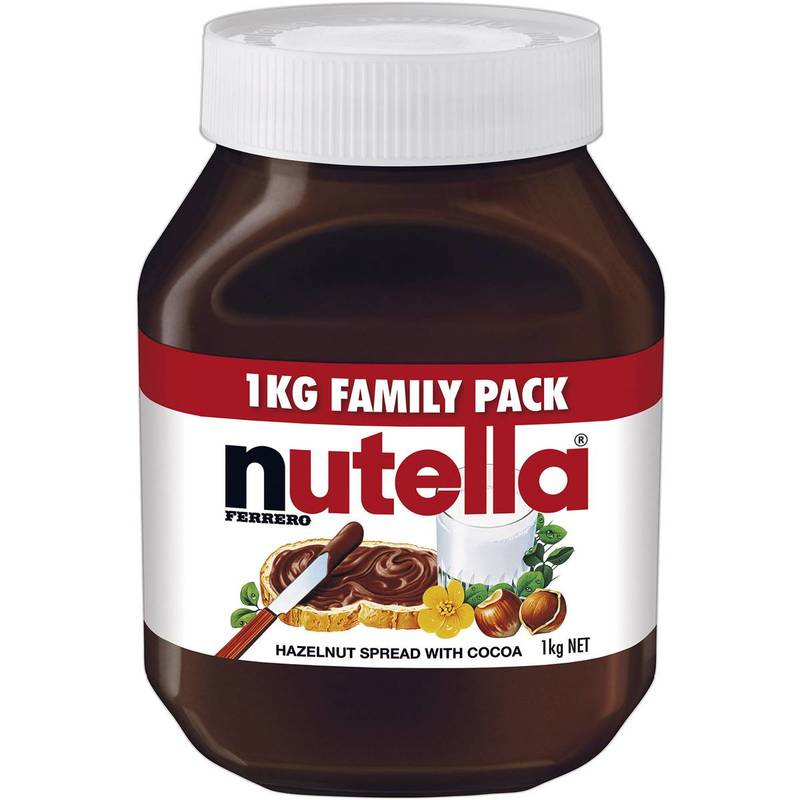nutella: (137, 2, 659, 798)
